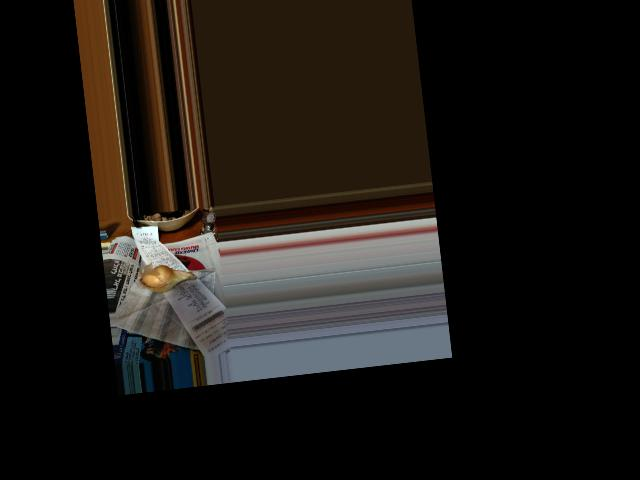onion: (137, 260, 191, 296)
